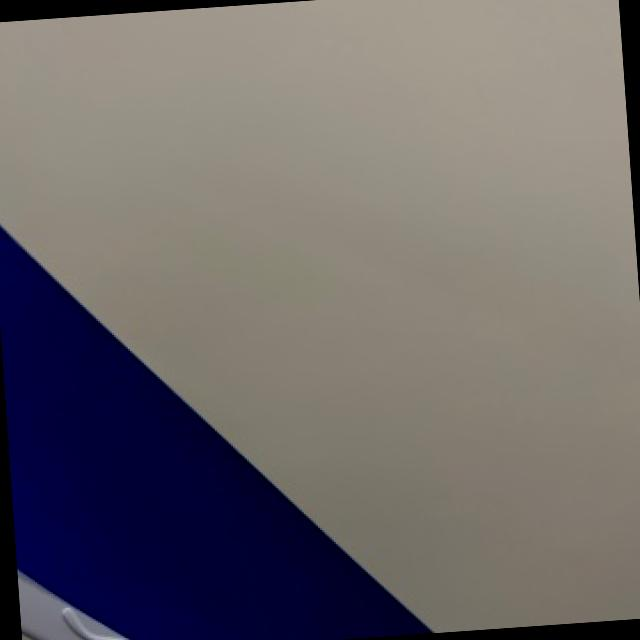healthy: (0, 228, 425, 640)
